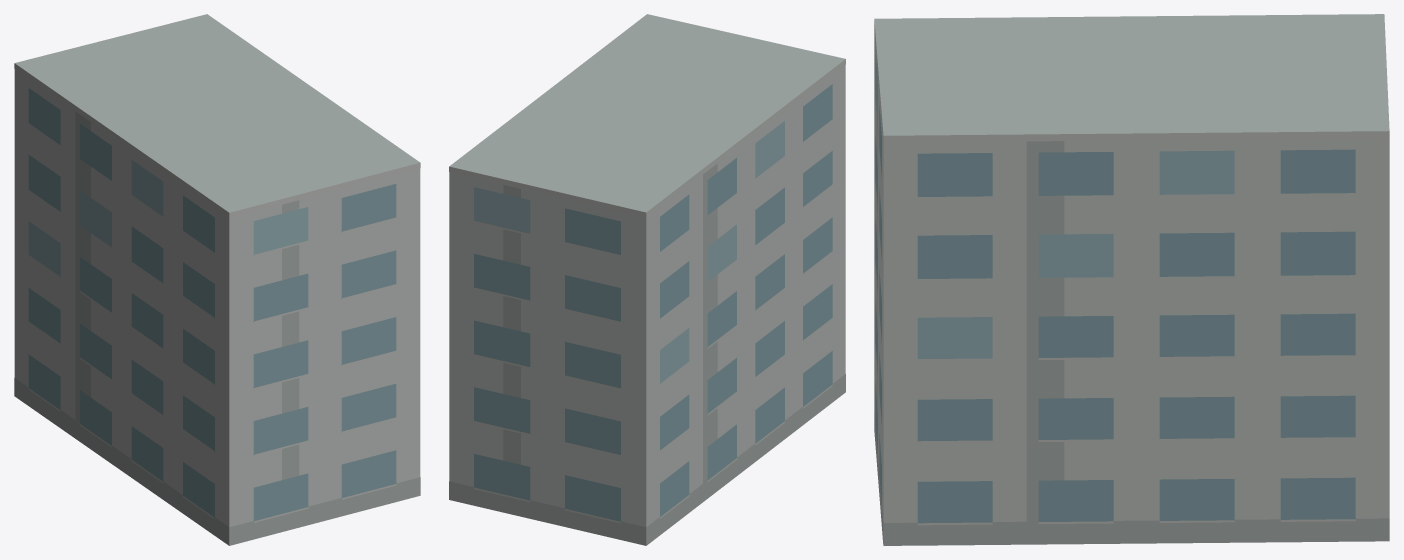
Rendered from survey-upis-32749265.glb.
The picture shows the model from 3 angles, left to right: view 1: azimuth 30°, elevation 25°; view 2: azimuth 150°, elevation 25°; view 3: azimuth 270°, elevation 25°; orthographic projection. The views are drawn at different scales.
Visible parts, largest first — view 1: survey-upis-32749265.tmp; view 2: survey-upis-32749265.tmp; view 3: survey-upis-32749265.tmp.
Boxes of the visible parts, x1,y1,x2,y2 form: survey-upis-32749265.tmp: (14,14,420,545); survey-upis-32749265.tmp: (449,14,845,545); survey-upis-32749265.tmp: (874,14,1389,545).
Bounding box in the file's own units: 9.18 × 14.4 × 16.41.
